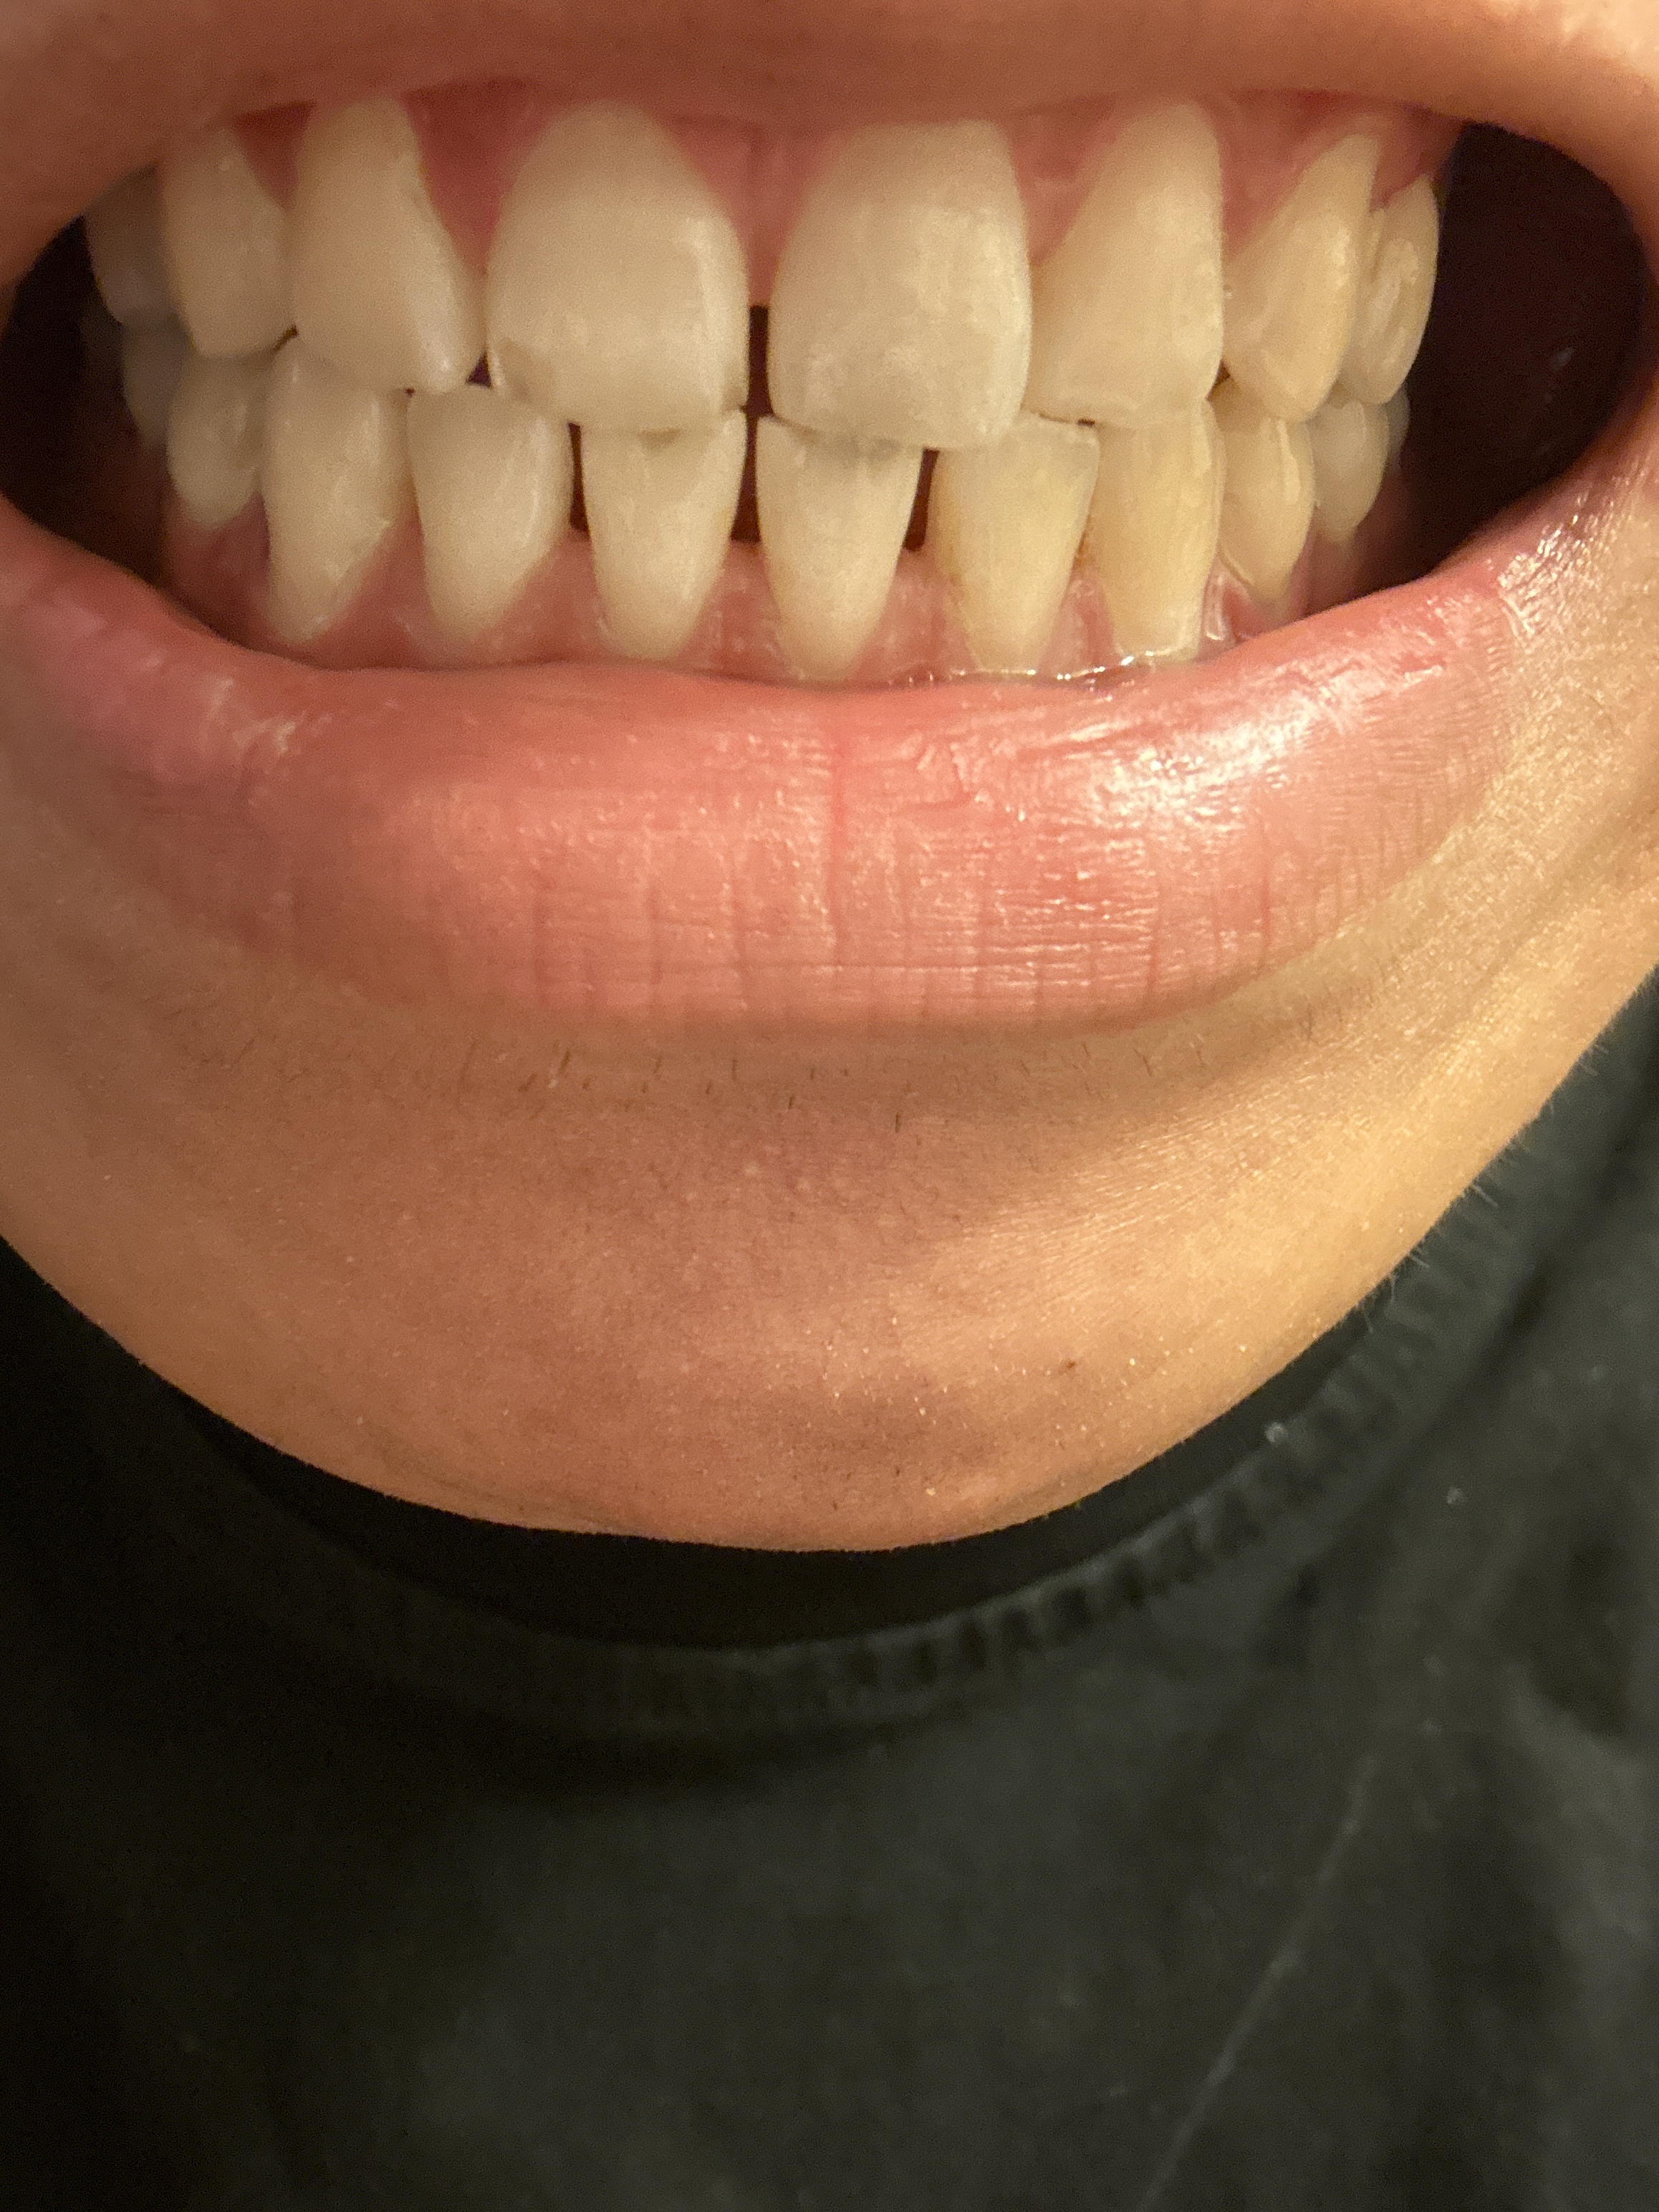teeth: (483, 99, 742, 435), (774, 120, 1025, 458), (1023, 106, 1227, 420), (286, 84, 471, 380), (922, 432, 1105, 678), (755, 418, 918, 683), (572, 411, 742, 651), (397, 392, 559, 632), (1239, 138, 1378, 413), (265, 341, 389, 637), (1093, 420, 1230, 665), (171, 146, 291, 357), (1225, 409, 1302, 599), (1370, 183, 1431, 413), (164, 357, 244, 516), (84, 181, 160, 338), (1321, 395, 1377, 531)
